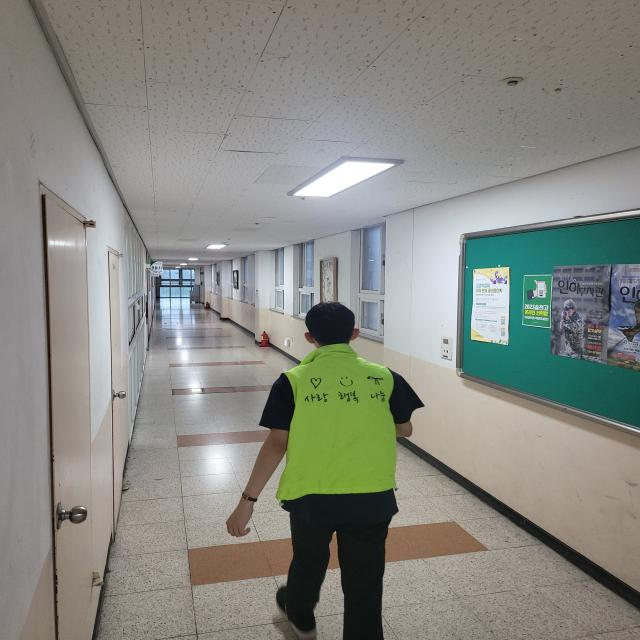weston_spy: (260, 339, 422, 509)
